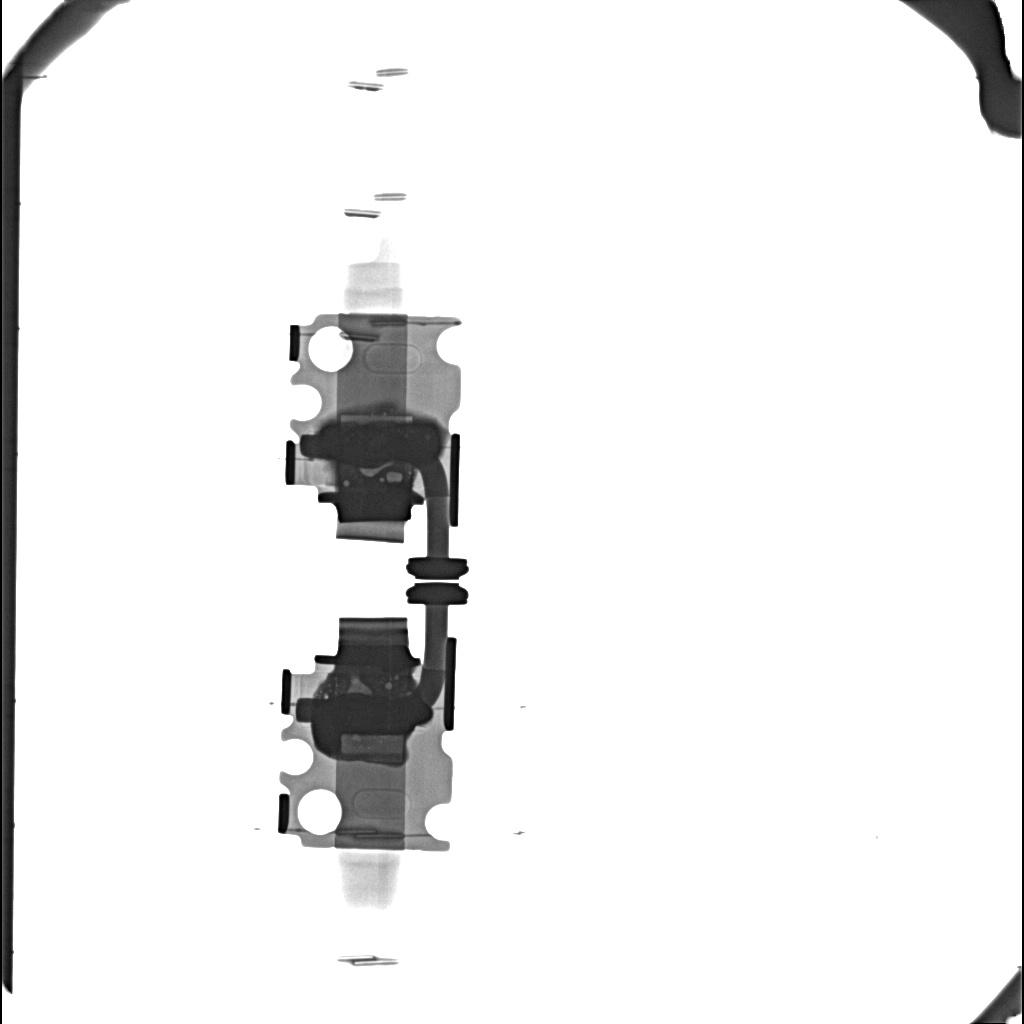PX: (335, 735, 406, 765), (338, 412, 414, 422)
QP: (359, 461, 394, 477), (348, 676, 372, 694), (387, 472, 403, 482), (386, 682, 393, 689), (344, 480, 350, 487)
SX: (312, 696, 431, 754), (318, 423, 439, 462)
